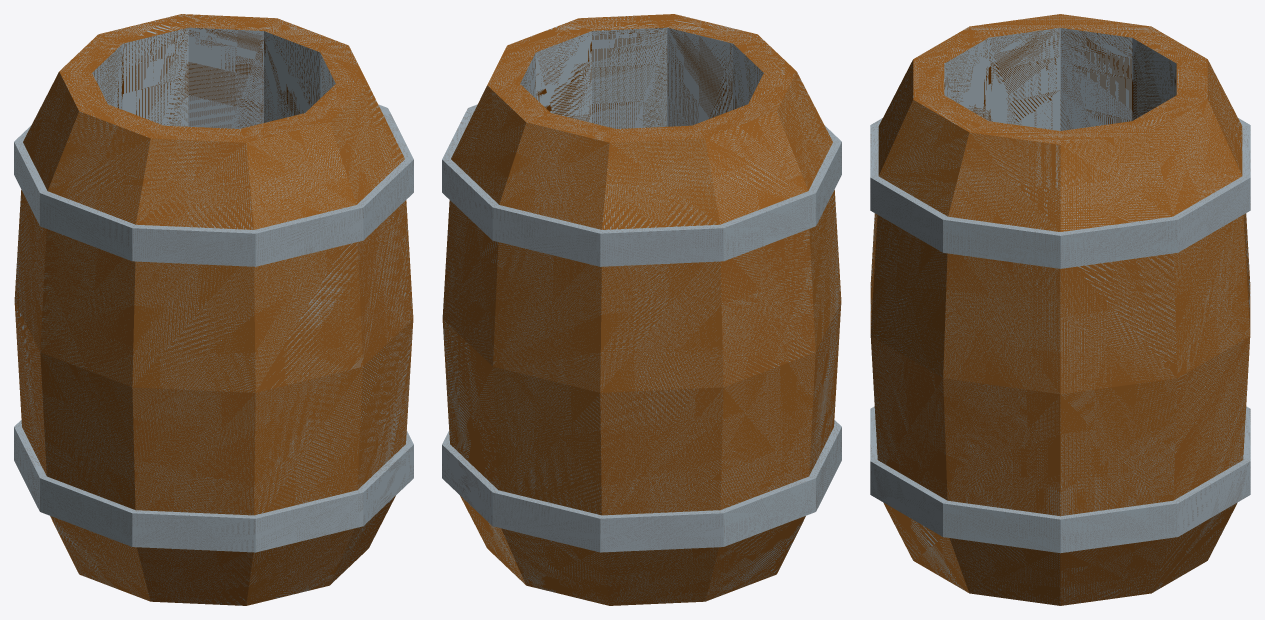
File: Barrel_Empty_01.fbx
The picture shows the model from 3 angles, left to right: view 1: azimuth 30°, elevation 25°; view 2: azimuth 150°, elevation 25°; view 3: azimuth 270°, elevation 25°; orthographic projection.
Visible parts, largest first — view 1: Model; view 2: Model; view 3: Model.
Boxes of the visible parts, box(x1,y1,x2,y2) form: Model: box(14, 14, 413, 605); Model: box(442, 14, 841, 605); Model: box(870, 14, 1250, 605).
Bounding box in the file's own units: 158 × 201 × 150.
